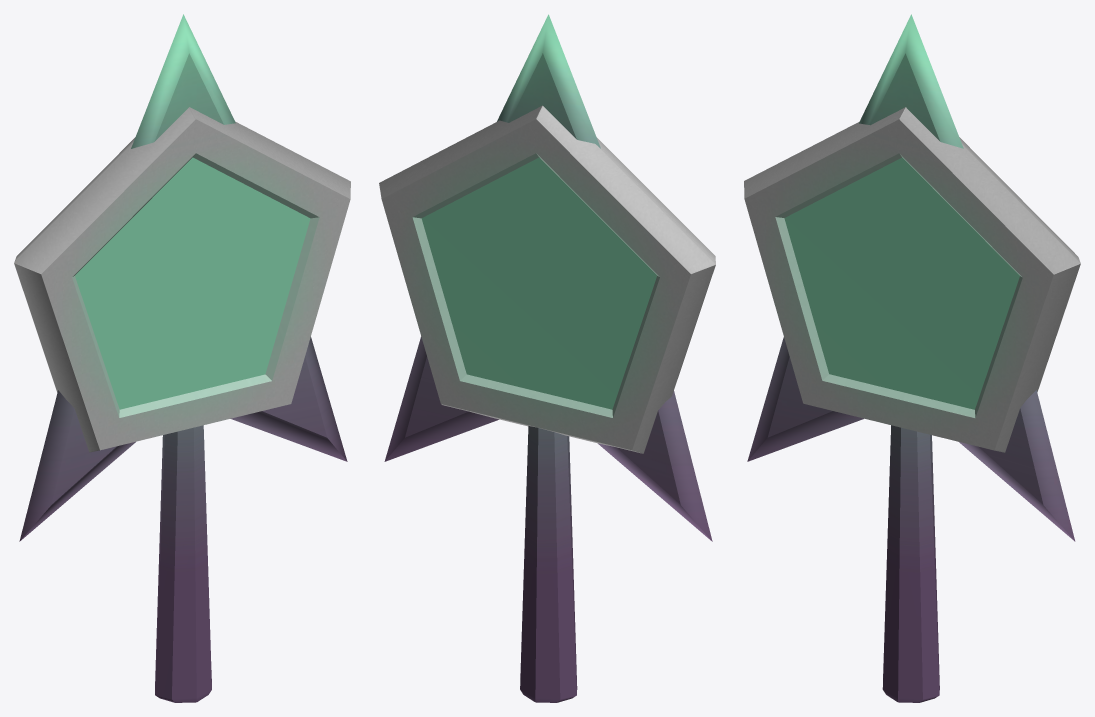
The model's file is enhancedDetection.fbx.
3 views of the same model, side by side, from view 1: azimuth 30°, elevation 25°; view 2: azimuth 150°, elevation 25°; view 3: azimuth 330°, elevation 25° (orthographic).
Visible parts, largest first — view 1: pCylinder1, pCube1, pCylinder2; view 2: pCylinder1, pCube1, pCylinder2; view 3: pCylinder1, pCube1, pCylinder2.
Part boxes in pixels (left/top/right/bottom): pCylinder1: left=14, top=107, right=350, bottom=452; pCube1: left=19, top=14, right=347, bottom=541; pCylinder2: left=155, top=425, right=211, bottom=702; pCylinder1: left=379, top=105, right=715, bottom=453; pCube1: left=384, top=14, right=712, bottom=541; pCylinder2: left=520, top=426, right=577, bottom=702; pCylinder1: left=744, top=107, right=1080, bottom=452; pCube1: left=747, top=14, right=1075, bottom=541; pCylinder2: left=882, top=425, right=939, bottom=702.
Bounding box in the file's own units: 11.41 × 21.97 × 1.56.
1 material, 1 textured.
